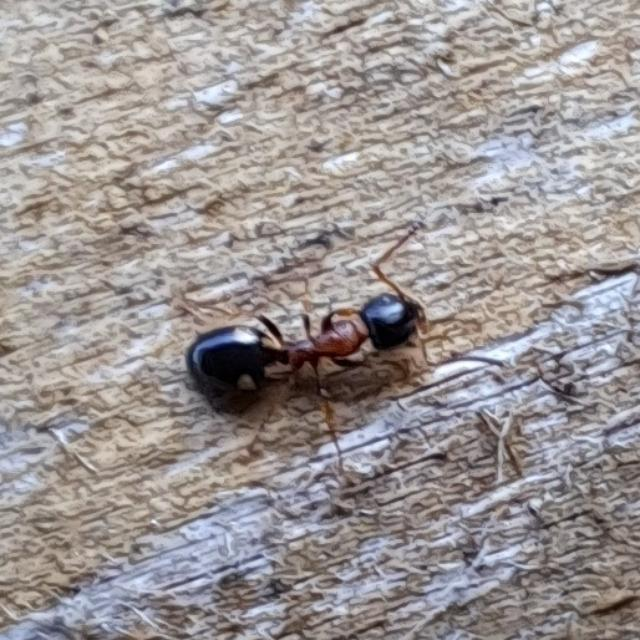Dolichoderus: (150, 245, 460, 439)
